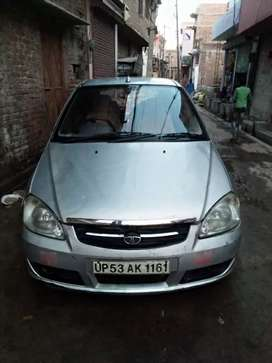UP53AK1161: (92, 260, 169, 275)
